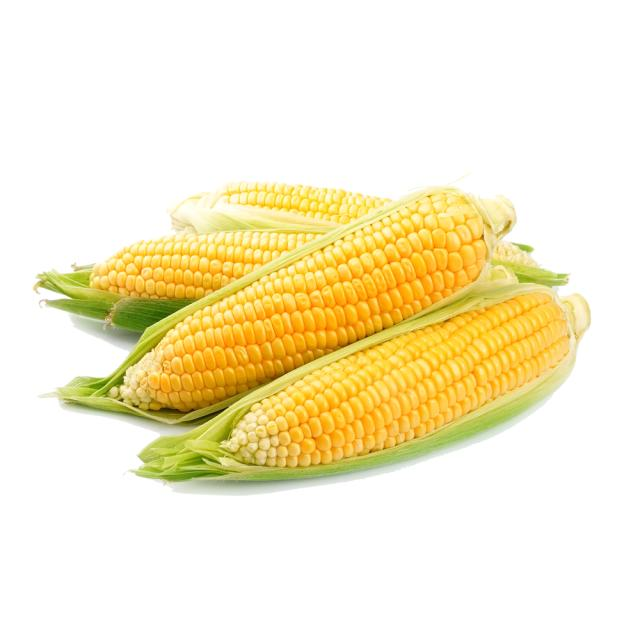corn: (80, 188, 491, 422), (143, 287, 589, 482)
